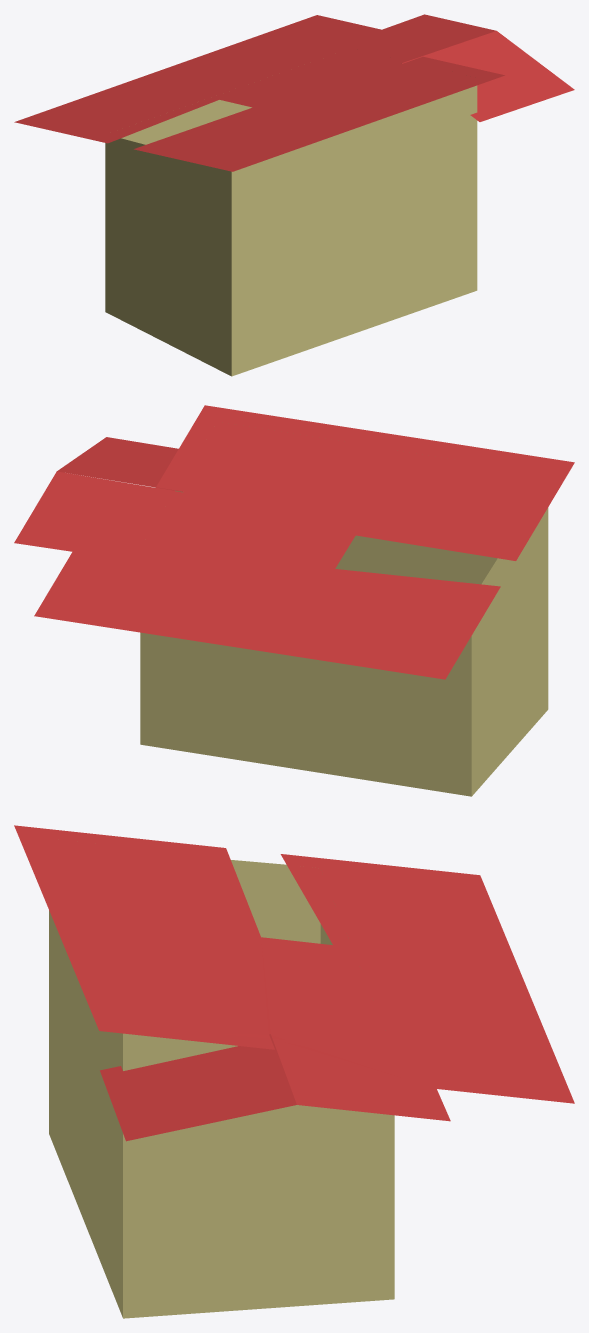
3 renders of one model, top to bottom at view 1: azimuth 30°, elevation 25°; view 2: azimuth 150°, elevation 25°; view 3: azimuth 270°, elevation 25°, orthographic. The views are drawn at different scales.
Size of the model in its own units: 12.6 by 10.17 by 6.02.
